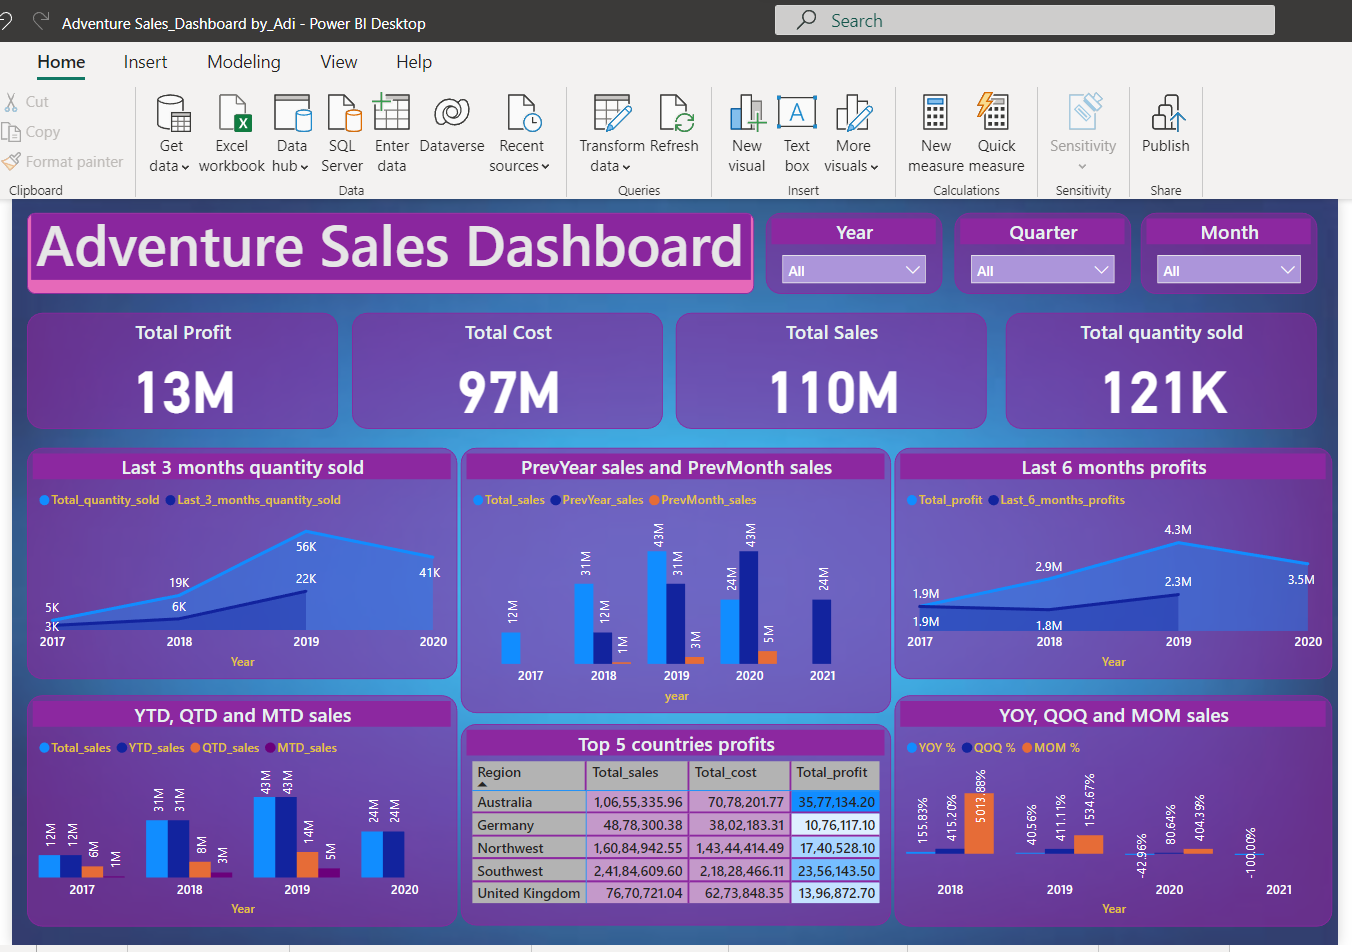

The page's visual inventory and layout, read from the dashboard file:
{"tool":"powerbi","page":{"name":"Dashboard","canvas":[1280,720],"ordinal":8},"visuals":[{"type":"card","title":"Total Sales","fields":{"Values":["Measure.Total_sales"]},"box":[640.4,109.7,300,112.2],"z":0},{"type":"card","title":"Total Cost","fields":{"Values":["Measure.Total_cost"]},"box":[328,109.7,300,112.2],"z":1000},{"type":"card","title":"Total Profit","fields":{"Values":["Measure.Total_profit"]},"box":[14.5,109.7,300,112.2],"z":2000},{"type":"card","title":"Total quantity sold","fields":{"Values":["Measure.Total_quantity_sold"]},"box":[958.8,109.7,300,112.2],"z":3000},{"type":"areaChart","title":"Last 3 months quantity sold","fields":{"Category":["Dimdate.calendar.Variation.Date Hierarchy.Year","Dimdate.calendar.Variation.Date Hierarchy.Month"],"Y":["Measure.Total_quantity_sold","Measure.Last_3_months_quantity_sold"]},"box":[14.5,240,414.9,223.1],"z":4000},{"type":"slicer","title":"Quarter","fields":{"Values":["Date.Date.Variation.Date Hierarchy.Quarter"]},"box":[909.3,13.3,170.1,78.4],"z":5000},{"type":"clusteredColumnChart","title":"PrevYear sales and PrevMonth sales","fields":{"Category":["Dimdate.year","Dimdate.calendar.Variation.Date Hierarchy.Year","Dimdate.calendar.Variation.Date Hierarchy.Quarter","Dimdate.calendar.Variation.Date Hierarchy.Month","Dimdate.calendar.Variation.Date Hierarchy.Day"],"Y":["Measure.Total_sales","Measure.PrevYear_sales","Measure.PrevMonth_sales"]},"box":[433,240,414.9,255.7],"z":6000},{"type":"clusteredColumnChart","title":"YTD, QTD and MTD sales","fields":{"Category":["Dimdate.calendar.Variation.Date Hierarchy.Year","Dimdate.calendar.Variation.Date Hierarchy.Quarter","Dimdate.calendar.Variation.Date Hierarchy.Month"],"Y":["Measure.Total_sales","Measure.YTD_sales","Measure.QTD_sales","Measure.MTD_sales"]},"box":[14.5,478.8,414.9,223.1],"z":7000},{"type":"areaChart","title":"Last 6 months profits","fields":{"Category":["Dimdate.calendar.Variation.Date Hierarchy.Year","Dimdate.calendar.Variation.Date Hierarchy.Month"],"Y":["Measure.Total_profit","Measure.Last_6_months_profits"]},"box":[851.5,240,422.1,223.1],"z":8000},{"type":"clusteredColumnChart","title":"YOY, QOQ and MOM sales","fields":{"Category":["Dimdate.calendar.Variation.Date Hierarchy.Year","Dimdate.calendar.Variation.Date Hierarchy.Quarter","Dimdate.calendar.Variation.Date Hierarchy.Month"],"Y":["Measure.YOY %","Measure.QOQ %","Measure.MOM %"]},"box":[851.5,478.8,422.1,223.1],"z":9000},{"type":"textbox","title":"Adventure Sales Dashboard","box":[14.5,13.3,701.9,78.4],"z":10000},{"type":"slicer","title":"Year","fields":{"Values":["Date.Date.Variation.Date Hierarchy.Year"]},"box":[727.2,13.3,170.1,78.4],"z":11000},{"type":"slicer","title":"Month","fields":{"Values":["Date.Date.Variation.Date Hierarchy.Month"]},"box":[1089,13.3,170.1,78.4],"z":12000},{"type":"pivotTable","title":"Top 5 countries profits","fields":{"Rows":["Sales Territory.Region"],"Values":["Measure.Total_sales","Measure.Total_cost","Measure.Total_profit"]},"box":[433,506.5,414.9,194.2],"z":13002}]}

Visuals, with their boxes on the page's 1280x720 design canvas (x1, y1, x2, y2). These are canvas units, not pixel positions in the 1352x952 screenshot, which may show the page scaled, cropped or inside an application window:
"Total Sales" card: (640, 110, 940, 222)
"Total Cost" card: (328, 110, 628, 222)
"Total Profit" card: (14, 110, 314, 222)
"Total quantity sold" card: (959, 110, 1259, 222)
"Last 3 months quantity sold" areaChart: (14, 240, 429, 463)
"Quarter" slicer: (909, 13, 1079, 92)
"PrevYear sales and PrevMonth sales" clusteredColumnChart: (433, 240, 848, 496)
"YTD, QTD and MTD sales" clusteredColumnChart: (14, 479, 429, 702)
"Last 6 months profits" areaChart: (852, 240, 1274, 463)
"YOY, QOQ and MOM sales" clusteredColumnChart: (852, 479, 1274, 702)
"Adventure Sales Dashboard" textbox: (14, 13, 716, 92)
"Year" slicer: (727, 13, 897, 92)
"Month" slicer: (1089, 13, 1259, 92)
"Top 5 countries profits" pivotTable: (433, 506, 848, 701)
